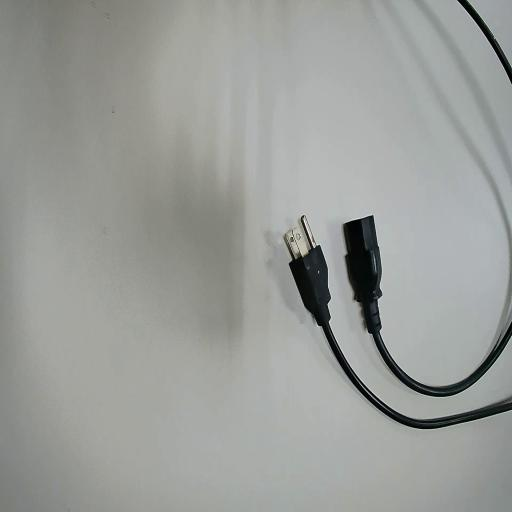wire: (290, 247, 511, 427), (344, 217, 511, 395)
